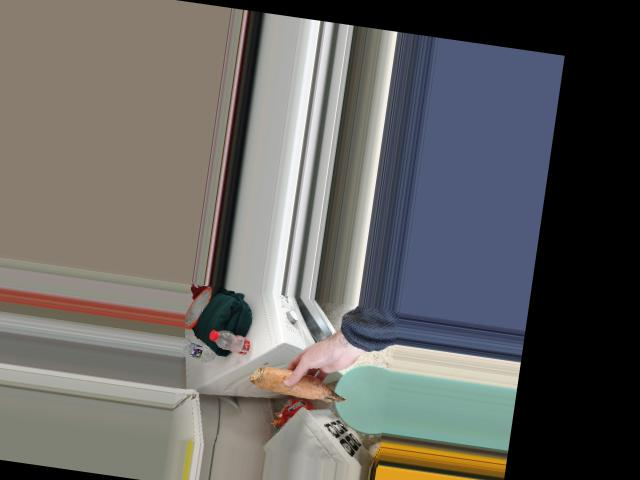sweet_potato: (243, 358, 347, 410)
